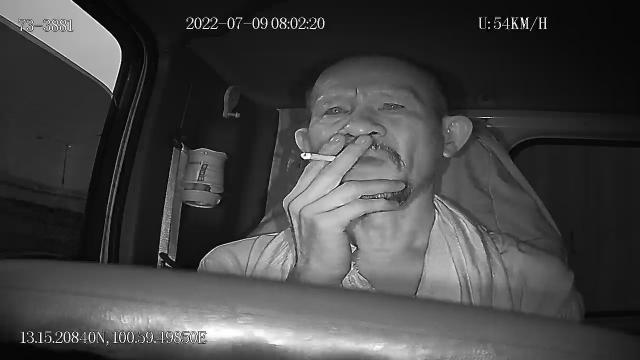SafeDriving: (373, 93, 414, 117), (314, 99, 353, 122)
Smoking: (299, 152, 337, 162)
